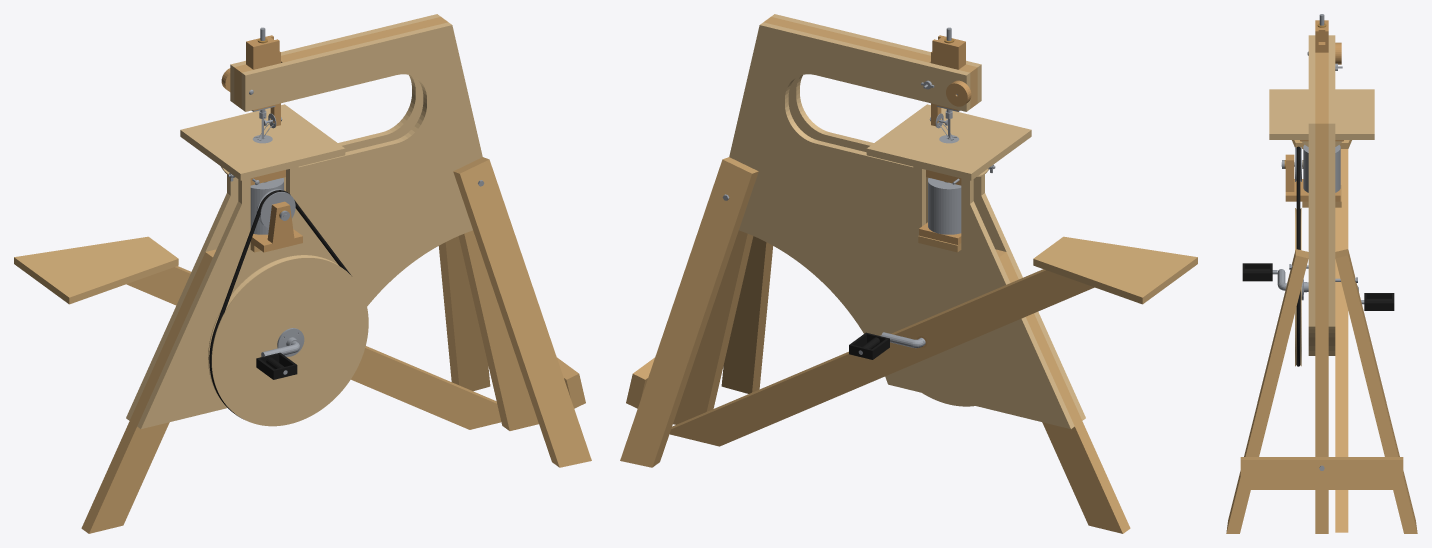
3 renders of one model, left to right at view 1: azimuth 30°, elevation 25°; view 2: azimuth 150°, elevation 25°; view 3: azimuth 270°, elevation 25°, orthographic. The views are drawn at different scales.
Visible parts, largest first — view 1: Frame_Side, Pedal_Drive_Drive_Pulley_18_, Stand_Rear_Leg, Table_Table, Stand_Seat_Member, Stand_Seat, Frame_Front_Leg, Frame_Rear_Post, Stand_Rear_Leg_1, Frame_Side_1, Pedal_Drive_V_Belt, Frame_Arm_Core (+5 smaller); view 2: Frame_Side_1, Stand_Seat_Member, Stand_Rear_Leg_1, Table_Table, Stand_Seat, Frame_Front_Leg, Frame_Rear_Post, Stand_Rear_Leg, Frame_Side, Drive_Head_Paint_Can__1_qt_, Frame_Arm_Core, Tension_Unit_Tension_Housing (+2 smaller); view 3: Frame_Rear_Post, Stand_Crossbar, Stand_Seat_Member, Table_Table, Stand_Rear_Leg_1, Stand_Rear_Leg, Frame_Side, Frame_Side_1, Pedal_Drive_V_Belt, Frame_Arm_Core, Pedal_Drive_Bicycle_Pedal, Pedal_Drive_Bicycle_Pedal_1 (+5 smaller).
Part boxes in pixels (x1,y1,x2,y2): Frame_Side: [137, 22, 482, 428]; Pedal_Drive_Drive_Pulley_18_: [208, 255, 368, 426]; Stand_Rear_Leg: [453, 157, 591, 467]; Table_Table: [180, 104, 345, 180]; Stand_Seat_Member: [126, 266, 501, 429]; Stand_Seat: [14, 236, 178, 304]; Frame_Front_Leg: [81, 249, 216, 533]; Frame_Rear_Post: [410, 17, 538, 430]; Stand_Rear_Leg_1: [438, 236, 490, 391]; Frame_Side_1: [126, 14, 440, 420]; Pedal_Drive_V_Belt: [209, 190, 351, 419]; Frame_Arm_Core: [281, 24, 416, 62]; Frame_Side_1: [729, 22, 1074, 428]; Stand_Seat_Member: [669, 269, 1094, 446]; Stand_Rear_Leg_1: [620, 157, 758, 467]; Table_Table: [866, 104, 1031, 180]; Stand_Seat: [1033, 236, 1197, 304]; Frame_Front_Leg: [995, 249, 1130, 533]; Frame_Rear_Post: [673, 17, 801, 424]; Stand_Rear_Leg: [721, 236, 773, 393]; Frame_Side: [771, 14, 1085, 420]; Drive_Head_Paint_Can__1_qt_: [928, 182, 961, 234]; Frame_Arm_Core: [795, 24, 930, 62]; Tension_Unit_Tension_Housing: [932, 35, 965, 110]; Frame_Rear_Post: [1315, 110, 1328, 533]; Stand_Crossbar: [1240, 457, 1403, 489]; Stand_Seat_Member: [1335, 149, 1348, 532]; Table_Table: [1269, 89, 1374, 139]; Stand_Rear_Leg_1: [1335, 249, 1417, 533]; Stand_Rear_Leg: [1226, 249, 1308, 533]; Frame_Side: [1308, 35, 1315, 355]; Frame_Side_1: [1328, 35, 1335, 355]; Pedal_Drive_V_Belt: [1296, 146, 1300, 366]; Frame_Arm_Core: [1315, 52, 1328, 110]; Pedal_Drive_Bicycle_Pedal: [1242, 263, 1272, 281]; Pedal_Drive_Bicycle_Pedal_1: [1364, 293, 1394, 310].
Bounding box in the file's own units: 57.15 × 50.38 × 21.74.
